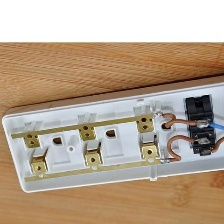three_eye_plug: (0, 62, 224, 198)
